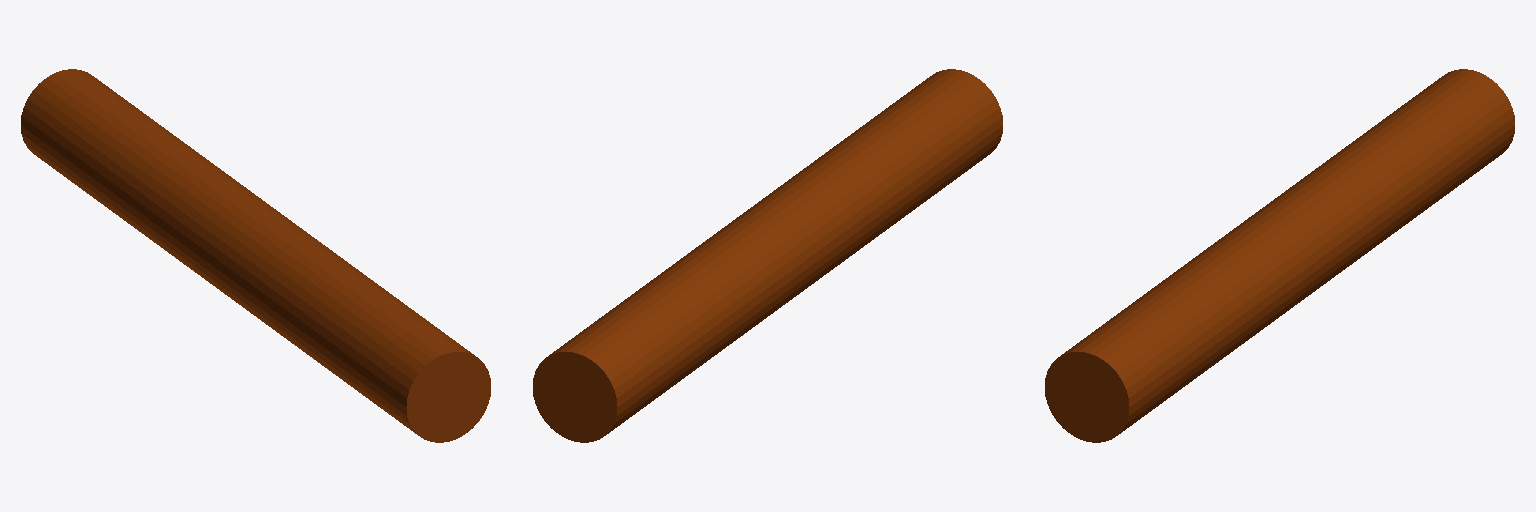
robot.urdf — cylinder:
<?xml version="1.0" ?>
<!-- =================================================================================== -->
<!-- |    This document was autogenerated by xacro from cylinder.xacro                 | -->
<!-- |    EDITING THIS FILE BY HAND IS NOT RECOMMENDED                                 | -->
<!-- =================================================================================== -->
<robot name="cylinder">
  <link name="world"/>
  <link name="base">
    <visual>
      <origin rpy="1.57079633 0 0" xyz="0 0 0"/>
      <geometry>
        <cylinder length="7.07106781185" radius="0.45"/>
      </geometry>
      <material name="cylinder_material">
        <color rgba="0.545 0.271 0.075 1.0"/>
        <texture filename="../textures/tree_bark.jpg"/>
      </material>
    </visual>
    <collision>
      <origin rpy="1.57079633 0 0" xyz="0 0 0"/>
      <geometry>
        <cylinder length="7.07106781185" radius="0.45"/>
      </geometry>
    </collision>
    <inertial>
      <origin rpy="0 0 0" xyz="0 0 0"/>
      <mass value="1"/>
      <inertia ixx="4.217291666648428" ixy="0.0" ixz="0.0" iyy="4.217291666648428" iyz="0.0" izz="24.999999999890573"/>
    </inertial>
  </link>
  <joint name="base_joint" type="fixed">
    <parent link="world"/>
    <child link="base"/>
    <origin rpy="0 0 0" xyz="0.0 0.0 0.0"/>
  </joint>
</robot>

--- Render facts (derived) ---
Views: 3 orthographic renders of the robot side by side, from view 1: azimuth 30°, elevation 25°; view 2: azimuth 150°, elevation 25°; view 3: azimuth 330°, elevation 25°.
Model cylinder with 2 links and 1 joints (1 fixed), rooted at world, posed all joints at 0.
Visible links, largest first — view 1: base; view 2: base; view 3: base.
Boxes of the visible links, x1,y1,x2,y2 form: base: (21, 69, 490, 442); base: (533, 69, 1002, 442); base: (1045, 69, 1514, 442).
Size in the robot's own frame: 0.9 by 7.07 by 0.9 metres.
Geometry: primitives only (box / cylinder / sphere), no mesh files.
